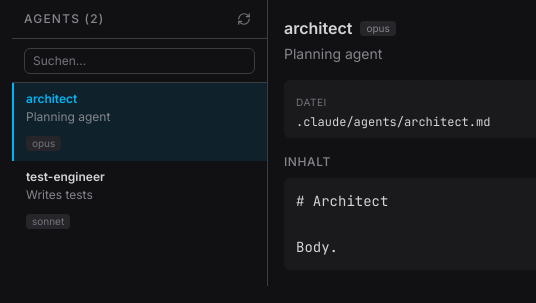
it: AgentsViewer › switches detail pane when a different agent is clicked
Expected: the text "Agents (2)" is shown, x1=24 y1=11 x2=104 y2=27
Click the text "test-engineer". click: (65,177)
box: x1=26 y1=169 x2=105 y2=185
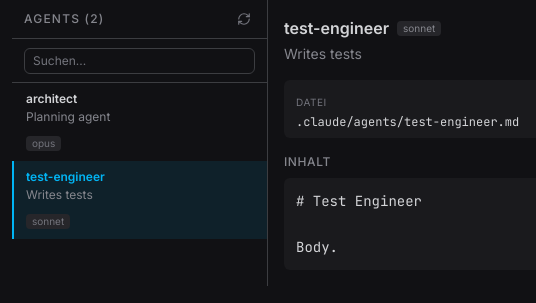
Expected: the text ".claude/agents/test-engineer.md" is shown, x1=296 y1=114 x2=519 y2=130
